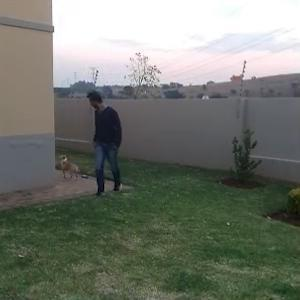follow: (87, 82, 122, 201)
